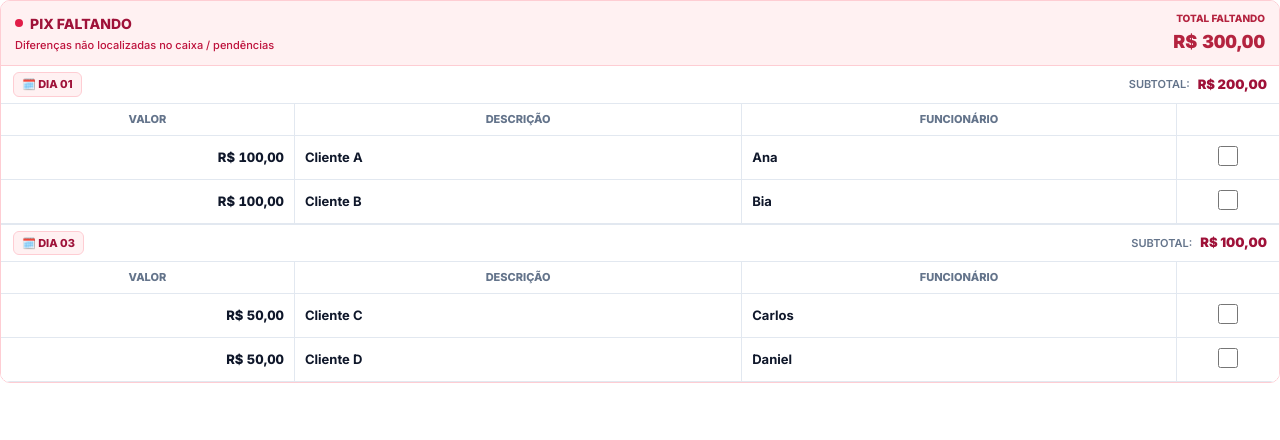
it: Integração de Seleção Múltipla no Ledger do Relatório › aciona a seleção ao clicar na área da célula da checkbox (fora do input)
Check: the element "resumo da seleção" is not shown
# Clica na célula (área quadrada), mas fora do input da checkbox
Click the 1st cell with class "rp-check-cell". click: coordinates (1228, 158)
box: [1177,136,1279,180]
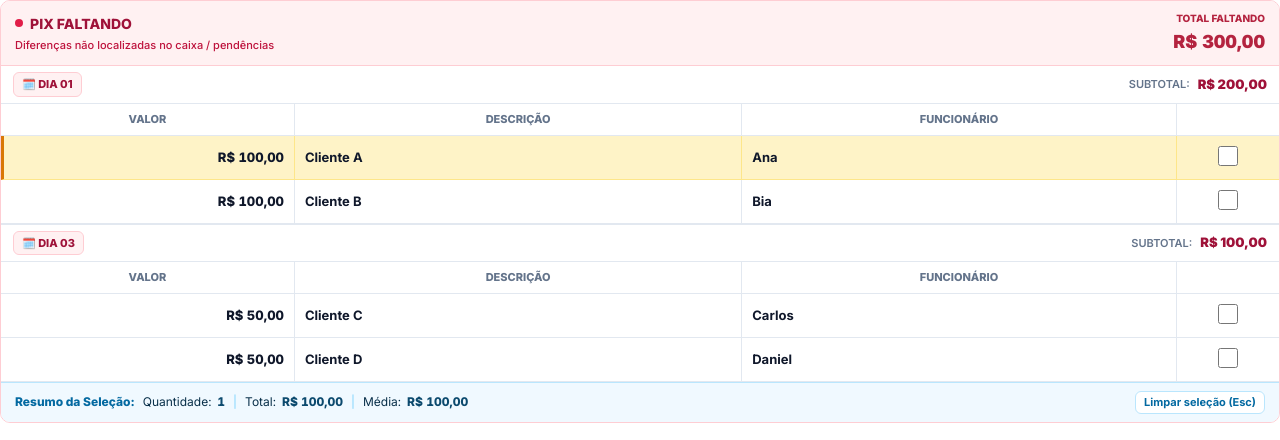
Check: the footer "Resumo da Seleção" shows "Quantidade: 1", box [1,382,1279,422]
